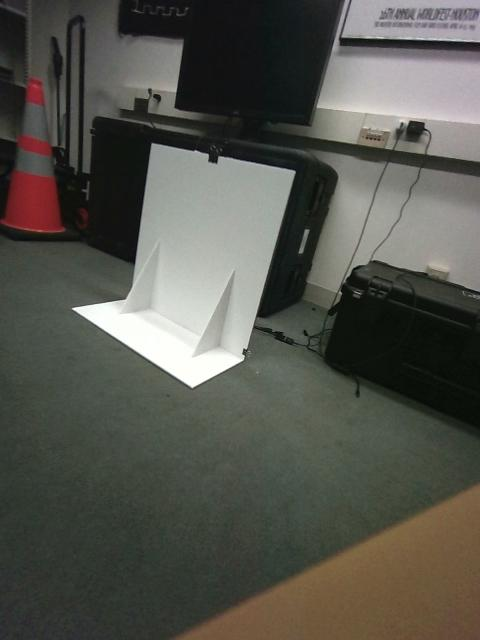block: (26, 245, 57, 272)
